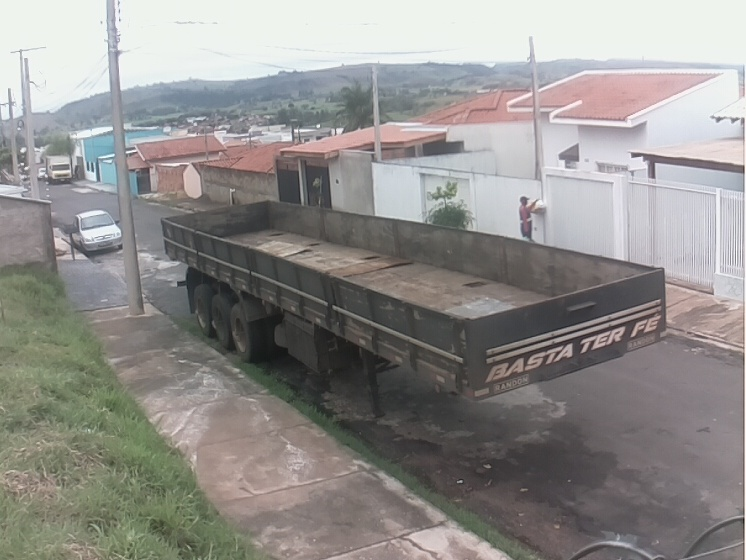person: (515, 193, 541, 240)
